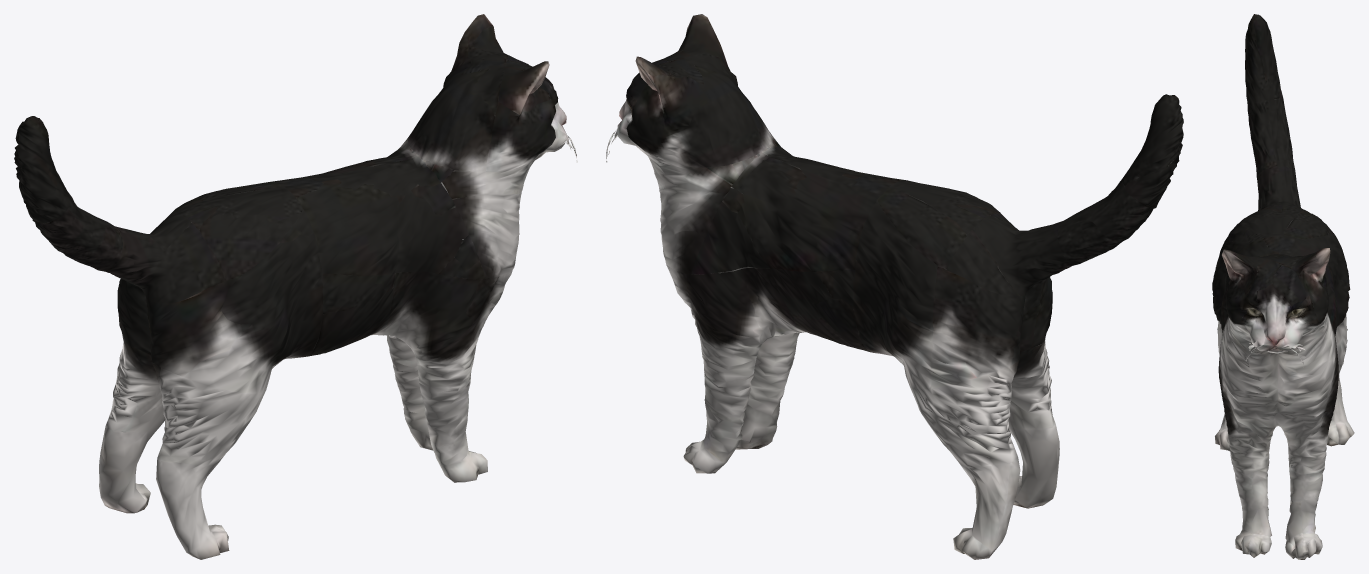
The model's file is JJINGJJING-lo.glb.
3 views of the same model, side by side, from view 1: azimuth 30°, elevation 25°; view 2: azimuth 150°, elevation 25°; view 3: azimuth 270°, elevation 25° (orthographic). The views are drawn at different scales.
Visible parts, largest first — view 1: tripo_node_92949f0e-f000-4858-aa90-6d16a549dd9c; view 2: tripo_node_92949f0e-f000-4858-aa90-6d16a549dd9c; view 3: tripo_node_92949f0e-f000-4858-aa90-6d16a549dd9c.
Boxes of the visible parts, x1,y1,x2,y2 form: tripo_node_92949f0e-f000-4858-aa90-6d16a549dd9c: (14, 14, 577, 559); tripo_node_92949f0e-f000-4858-aa90-6d16a549dd9c: (606, 14, 1183, 559); tripo_node_92949f0e-f000-4858-aa90-6d16a549dd9c: (1212, 14, 1354, 559).
Bounding box in the file's own units: 1.26 × 0.9984 × 0.3481.
Materials: 1 (1 with a texture image).
